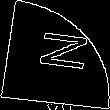N_W: (23, 32, 87, 78)
